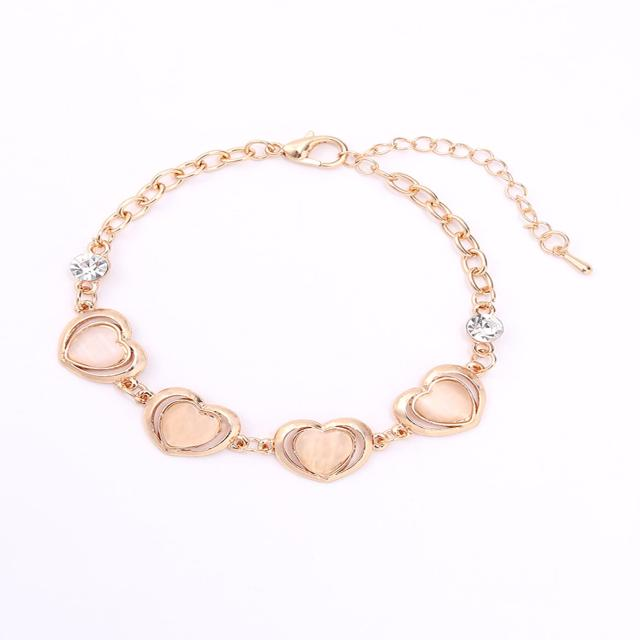bracelet: (30, 58, 640, 535)
